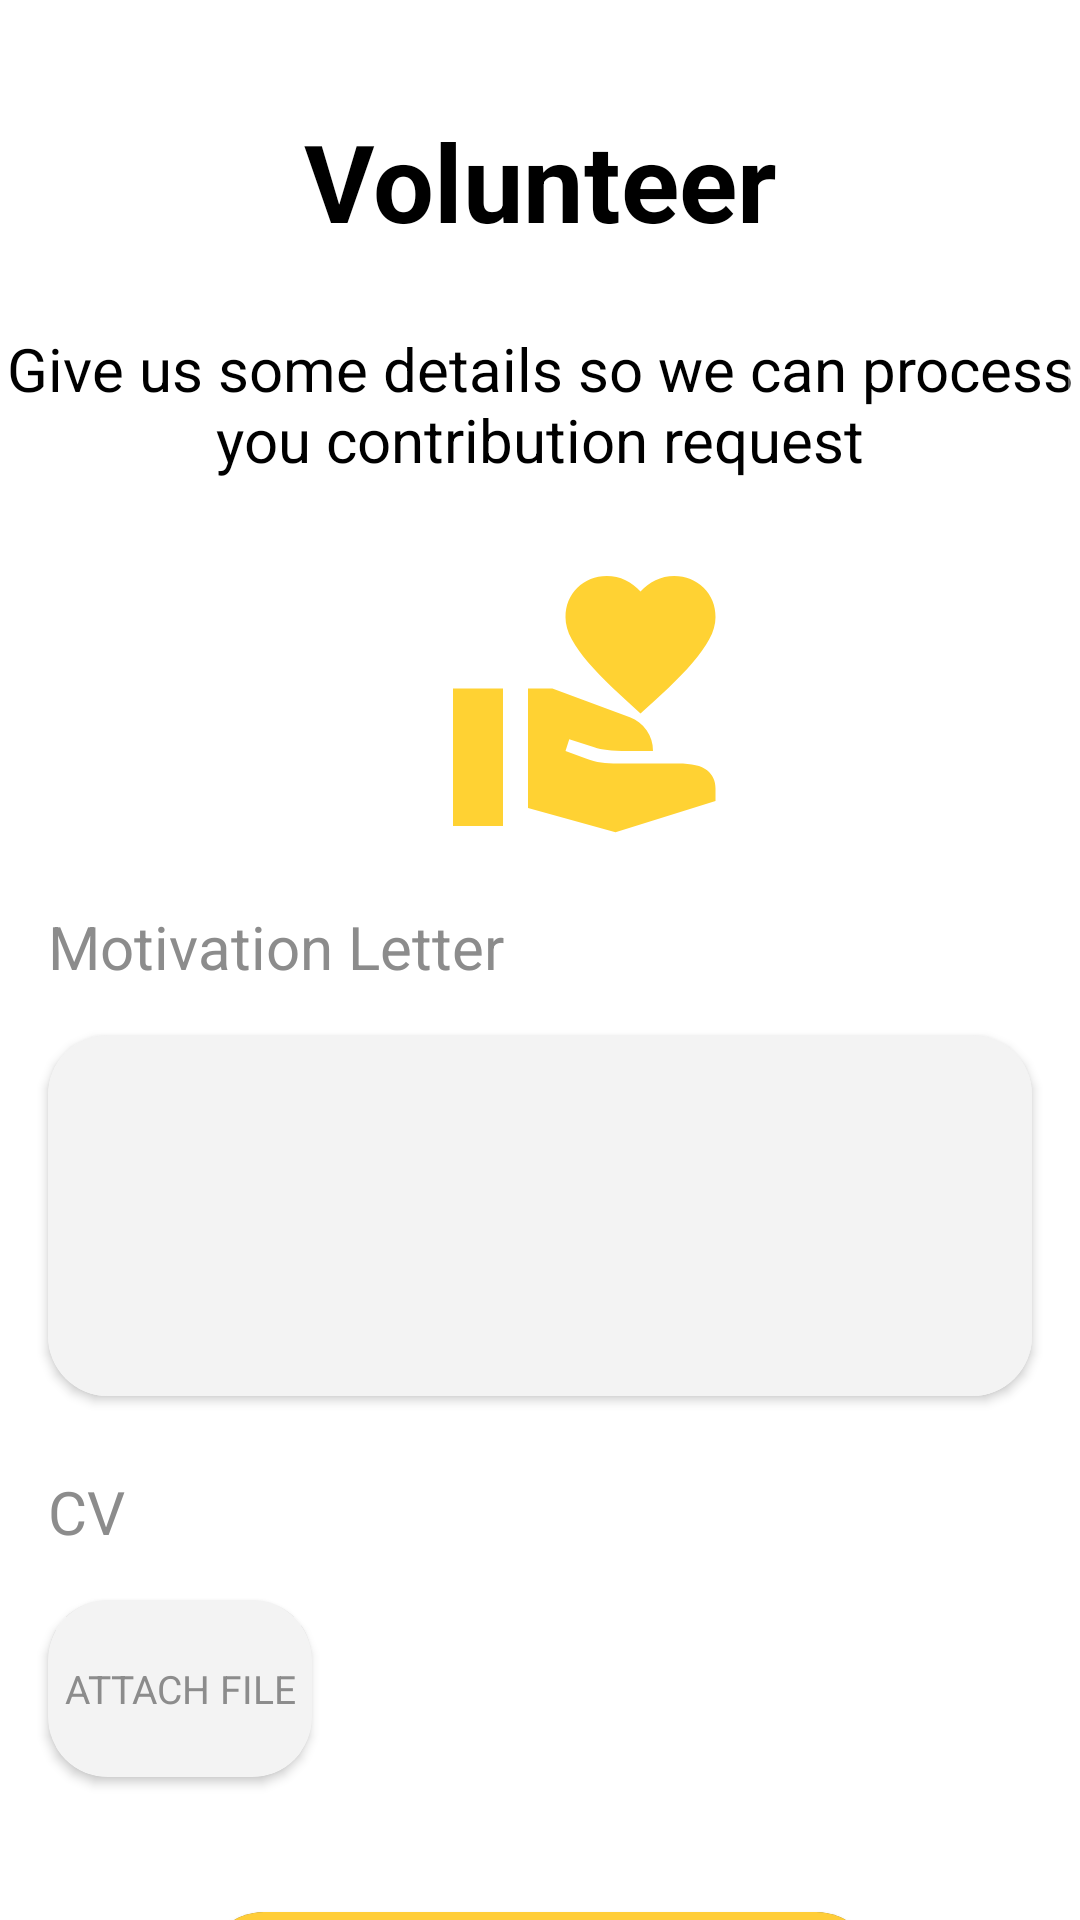

Named icons in this screenshot (1080x1920) and their centers, [x,y]:
volunteer: [584,704]
